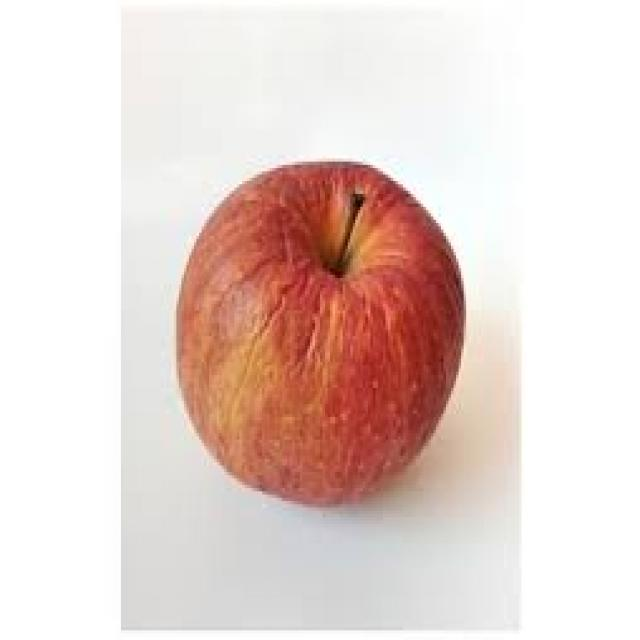organic waste: (174, 158, 464, 504)
